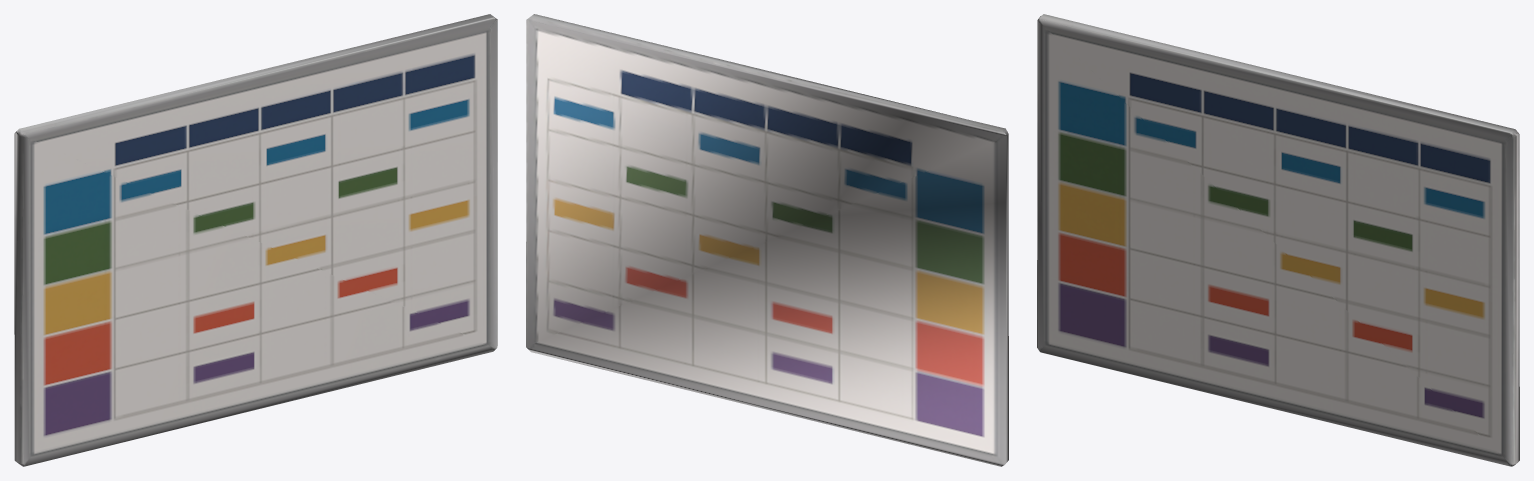
The model's file is schedule_board.fbx.
3 views of the same model, side by side, from view 1: azimuth 30°, elevation 25°; view 2: azimuth 150°, elevation 25°; view 3: azimuth 330°, elevation 25° (orthographic).
Visible parts, largest first — view 1: Mesh_0; view 2: Mesh_0; view 3: Mesh_0.
Part boxes in pixels (bbox=[...]): Mesh_0: bbox=[14, 14, 497, 466]; Mesh_0: bbox=[526, 14, 1008, 466]; Mesh_0: bbox=[1037, 14, 1519, 466].
Size of the model in its own units: 95.75 by 64.06 by 2.
1 material, 1 textured.
